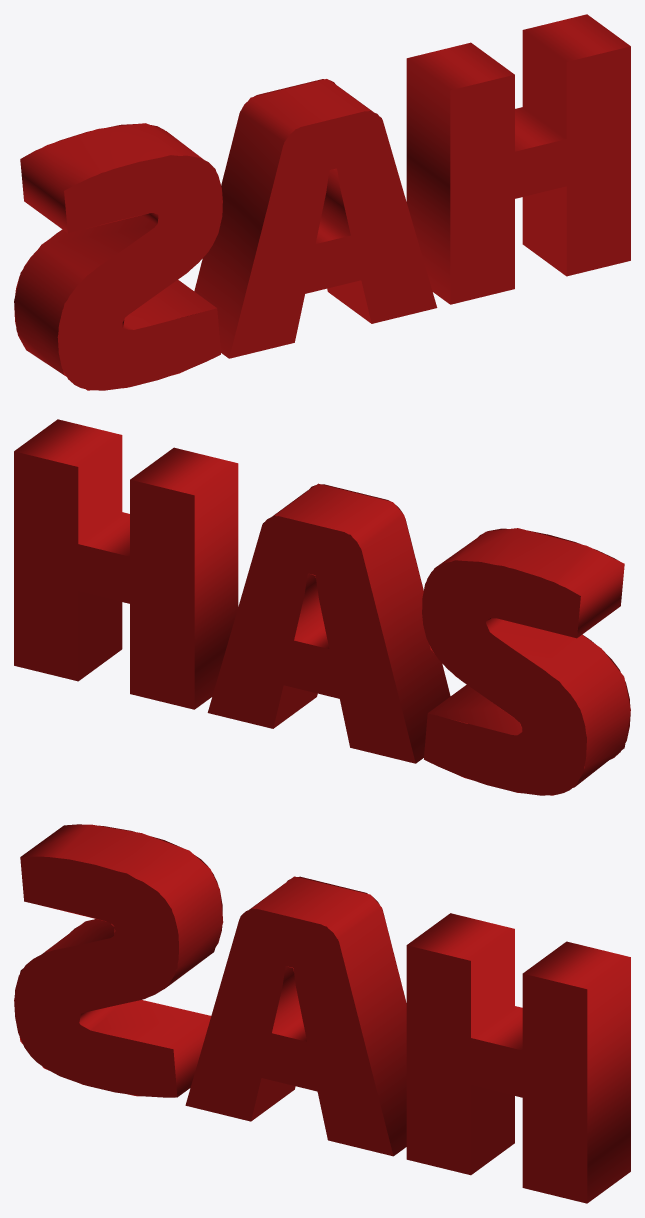
File: has.fbx
3 views of the same model, one above another, from view 1: azimuth 30°, elevation 25°; view 2: azimuth 150°, elevation 25°; view 3: azimuth 330°, elevation 25° (orthographic).
Parts seen in each view (by area): view 1: Text; view 2: Text; view 3: Text.
Part boxes in pixels (box(x1,y1,x2,y2)): Text: box(14, 14, 630, 390); Text: box(14, 419, 630, 795); Text: box(14, 824, 630, 1203).
Size of the model in its own units: 6.05 by 2.25 by 0.8.
